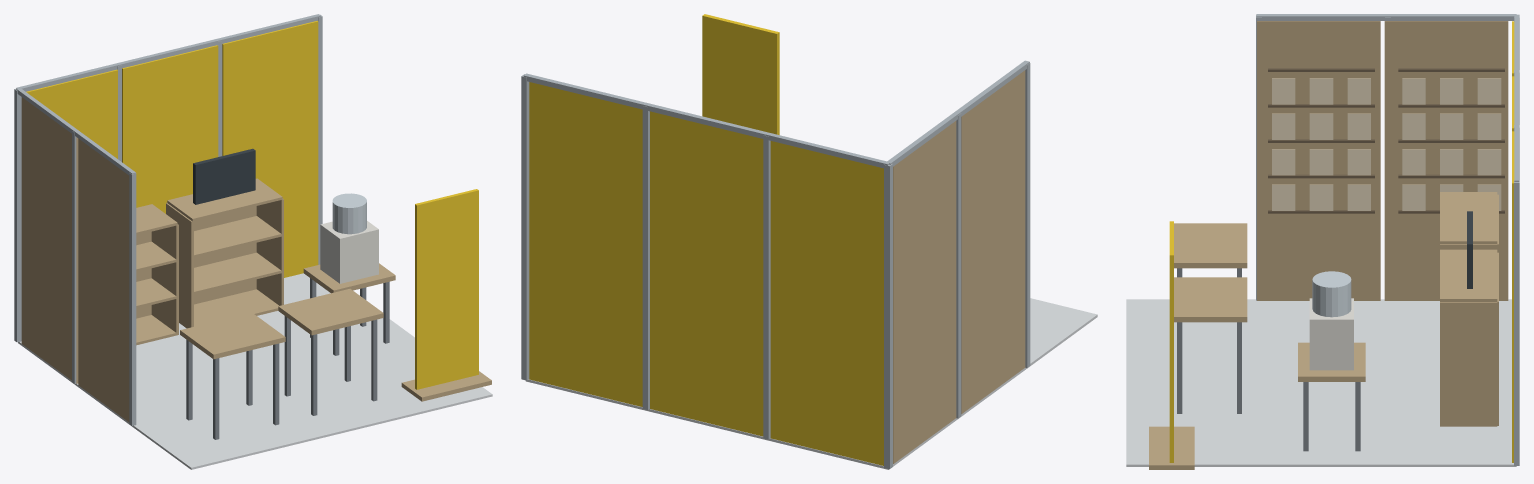
3 renders of one model, left to right at view 1: azimuth 30°, elevation 25°; view 2: azimuth 150°, elevation 25°; view 3: azimuth 270°, elevation 25°, orthographic. The views are drawn at different scales.
Visible parts, largest first — view 1: walls (×2), fixtures (×6), floor, frame, overhead; view 2: walls (×2), frame, fixtures, overhead, floor; view 3: walls (×2), floor, fixtures (×7), graphic, overhead, frame.
Part boxes in pixels (left/top/right/bottom): walls (×2): left=21, top=20, right=318, bottom=422; fixtures (×6): left=136, top=148, right=491, bottom=439; floor: left=18, top=273, right=492, bottom=469; frame: left=14, top=14, right=322, bottom=425; overhead: left=16, top=14, right=320, bottom=175; walls (×2): left=529, top=70, right=1025, bottom=465; frame: left=521, top=63, right=1030, bottom=469; fixtures: left=702, top=14, right=779, bottom=134; overhead: left=523, top=60, right=1029, bottom=168; floor: left=525, top=298, right=1097, bottom=469; walls (×2): left=1257, top=21, right=1514, bottom=462; floor: left=1126, top=299, right=1516, bottom=466; fixtures (×7): left=1149, top=68, right=1504, bottom=469; graphic: left=1272, top=78, right=1501, bottom=210; overhead: left=1256, top=14, right=1519, bottom=181; frame: left=1256, top=15, right=1519, bottom=465.
Size of the model in its own units: 3.13 by 2.43 by 3.02.
